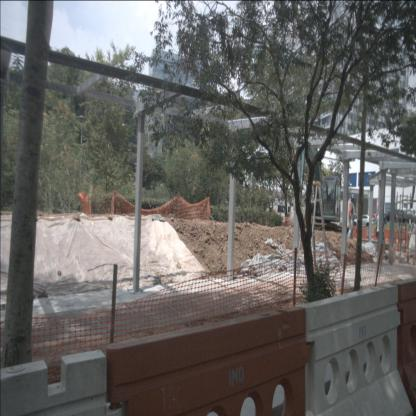movable_object-barrier: (106, 306, 313, 416), (301, 283, 414, 416), (0, 347, 126, 415), (385, 228, 410, 252), (353, 226, 368, 240)
vehicle-car: (351, 214, 376, 228)
